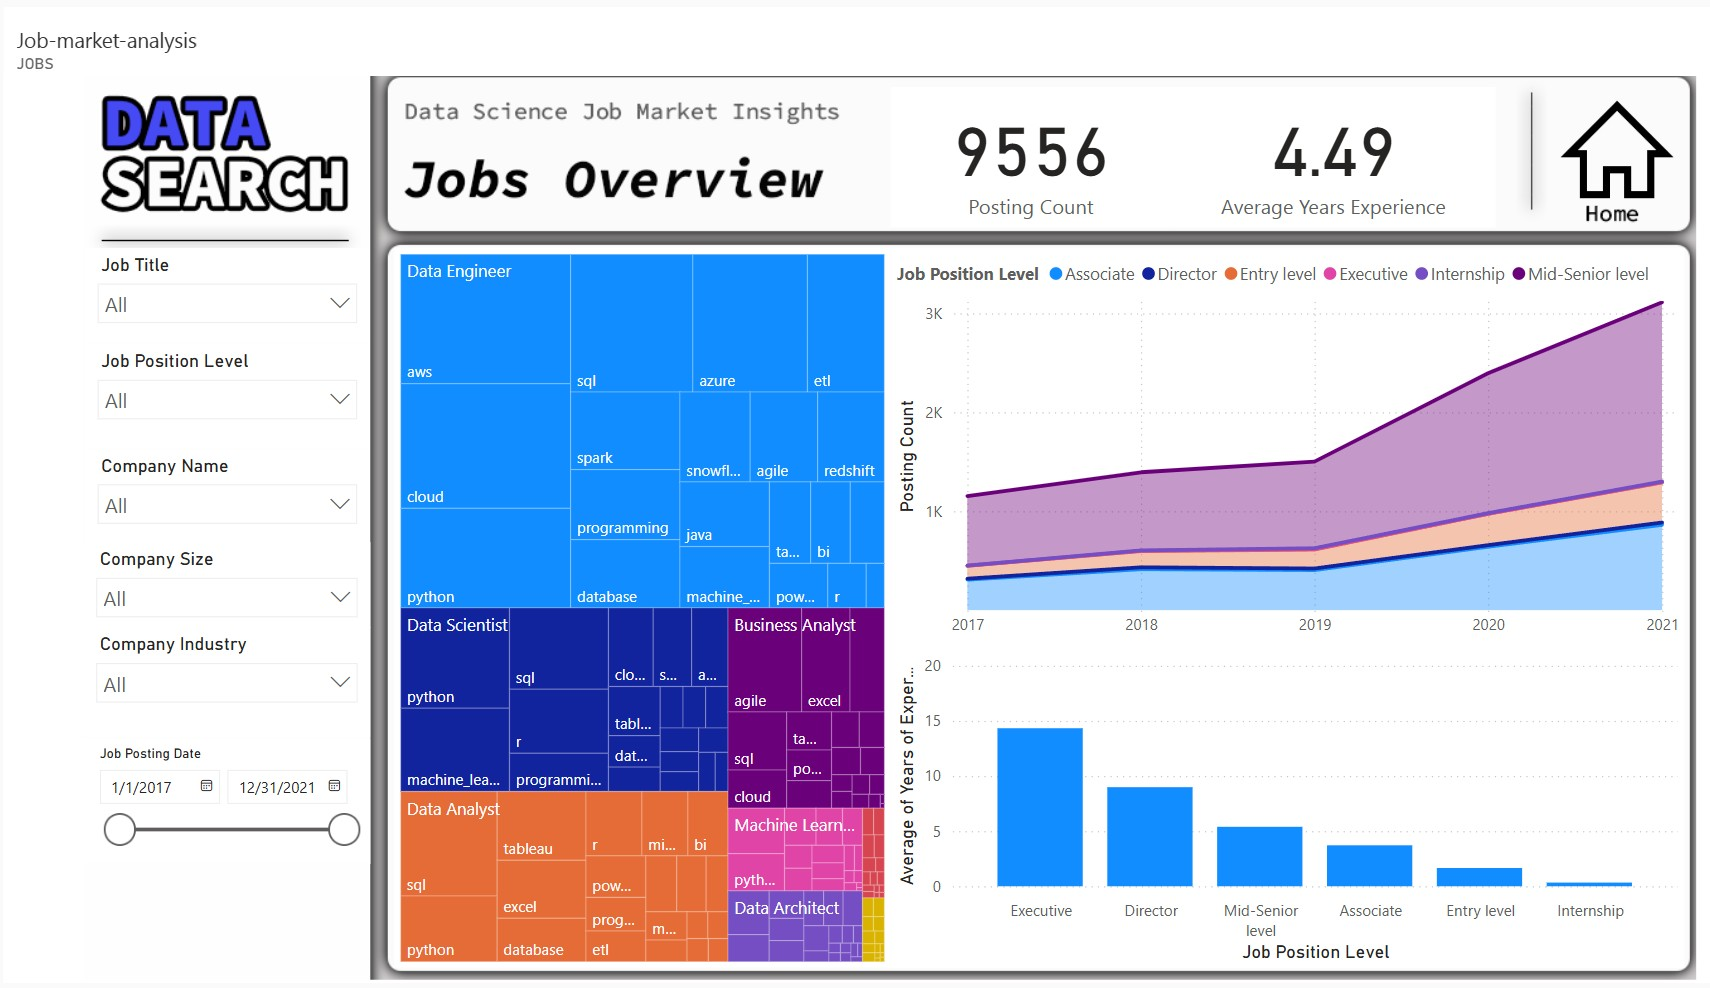

The dashboard page shown, as its layout file describes it:
{"tool":"powerbi","page":{"name":"Jobs","canvas":[1280,720],"ordinal":7},"visuals":[{"type":"stackedAreaChart","fields":{"Series":["Job Postings.Job Position Level"],"Category":["Job Postings.Job Posting Date.Variation.Date Hierarchy.Year"],"Y":["_Measures.Posting Count"]},"box":[640,136.2,630,317.5],"z":0},{"type":"columnChart","fields":{"Category":["Job Postings.Job Position Level"],"Y":["Avg(Job Postings.Years of Experience)"]},"box":[640,453.8,630,253.8],"z":1000},{"type":"treemap","fields":{"Group":["Job Postings.Job Title"],"Values":["CountNonNull(Job Skills.Job Skills)"],"Details":["Job Skills.Job Skills"]},"box":[246.2,136.2,393.8,571.2],"z":2000},{"type":"slicer","fields":{"Values":["Job Postings.Job Title"]},"box":[1.2,136.2,223.8,76.2],"z":3000},{"type":"slicer","fields":{"Values":["Job Postings.Job Position Level"]},"box":[1.2,212.5,226.2,82.5],"z":4000},{"type":"slicer","fields":{"Values":["Job Postings.Company Name"]},"box":[3.8,295,223.8,73.8],"z":5000},{"type":"slicer","fields":{"Values":["Job Postings.Company Size"]},"box":[0,360,223.8,77.5],"z":6000},{"type":"slicer","fields":{"Values":["Job Postings.Company Industry"]},"box":[0,437.5,226.2,77.5],"z":7000},{"type":"slicer","fields":{"Values":["Job Postings.Job Posting Date"]},"box":[0,525,223.8,98.8],"z":8000},{"type":"card","fields":{"Values":["_Measures.Posting Count"]},"box":[640,8.8,222.5,111.2],"z":9000},{"type":"card","fields":{"Values":["Avg(Job Postings.Years of Experience)"]},"box":[862.5,8.8,257.5,111.2],"z":10000},{"type":"image","box":[1162.5,8.8,107.5,100],"z":11000}]}

Visuals, with their boxes on the page's 1280x720 design canvas (x1, y1, x2, y2). These are canvas units, not pixel positions in the 1710x988 screenshot, which may show the page scaled, cropped or inside an application window:
stackedAreaChart - Job Postings.Job Position Level x Job Postings.Job Posting Date.Variation.Date Hierarchy.Year: <bbox>640, 136, 1270, 454</bbox>
columnChart - Job Postings.Job Position Level x Avg(Job Postings.Years of Experience): <bbox>640, 454, 1270, 708</bbox>
treemap - Job Postings.Job Title x CountNonNull(Job Skills.Job Skills): <bbox>246, 136, 640, 707</bbox>
slicer - Job Postings.Job Title: <bbox>1, 136, 225, 212</bbox>
slicer - Job Postings.Job Position Level: <bbox>1, 212, 227, 295</bbox>
slicer - Job Postings.Company Name: <bbox>4, 295, 228, 369</bbox>
slicer - Job Postings.Company Size: <bbox>0, 360, 224, 438</bbox>
slicer - Job Postings.Company Industry: <bbox>0, 438, 226, 515</bbox>
slicer - Job Postings.Job Posting Date: <bbox>0, 525, 224, 624</bbox>
card - _Measures.Posting Count: <bbox>640, 9, 862, 120</bbox>
card - Avg(Job Postings.Years of Experience): <bbox>862, 9, 1120, 120</bbox>
image: <bbox>1162, 9, 1270, 109</bbox>
